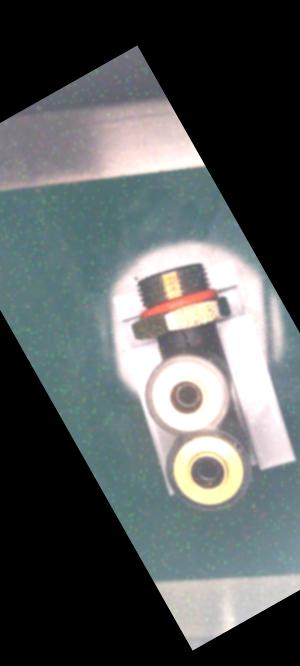craze: (170, 323, 196, 351)
